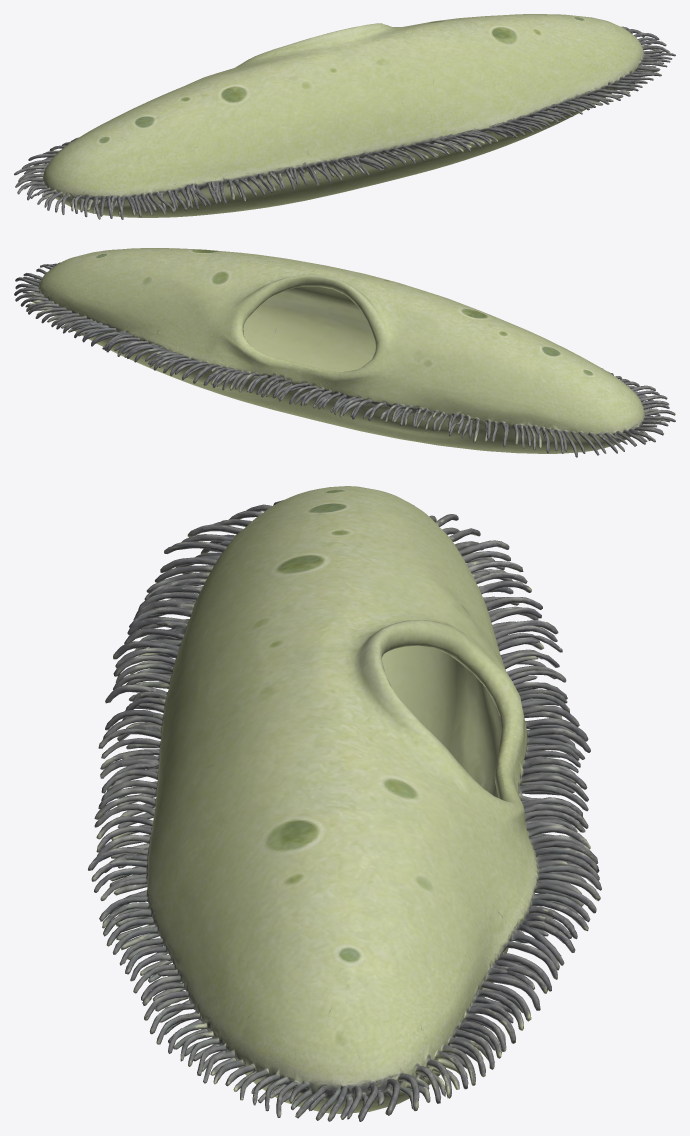
The model's file is paramecium.glb.
The picture shows the model from 3 angles, top to bottom: view 1: azimuth 30°, elevation 25°; view 2: azimuth 150°, elevation 25°; view 3: azimuth 270°, elevation 25°; orthographic projection. The views are drawn at different scales.
Bounding box in the file's own units: 1.9 × 0.4032 × 0.6635.
1 material, 1 textured.
